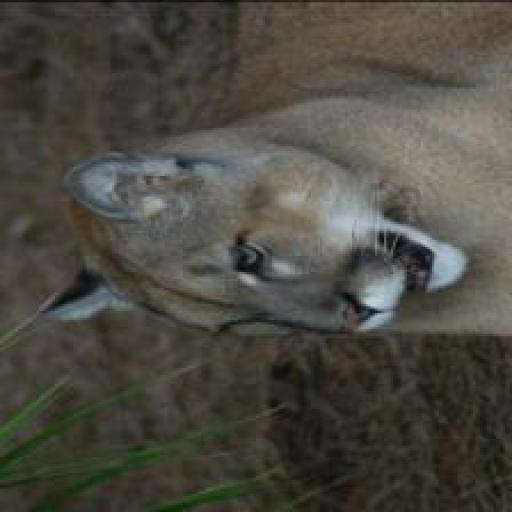lion: (32, 2, 509, 393)
